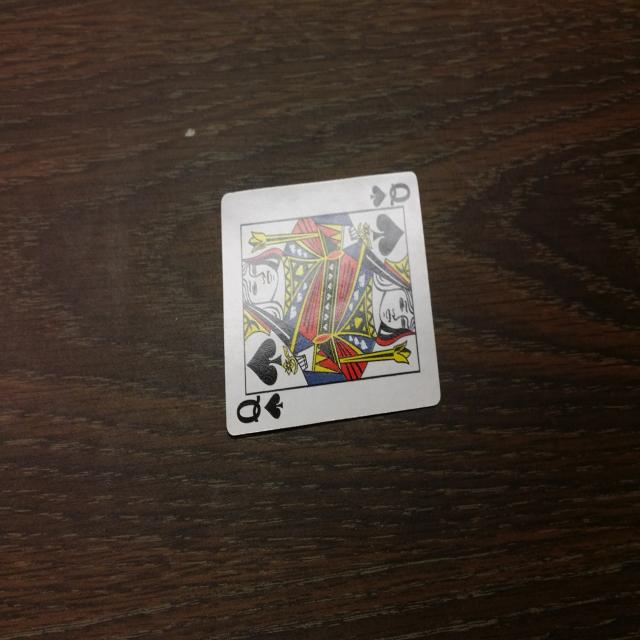Qs: (233, 381, 290, 432), (365, 174, 413, 214)
